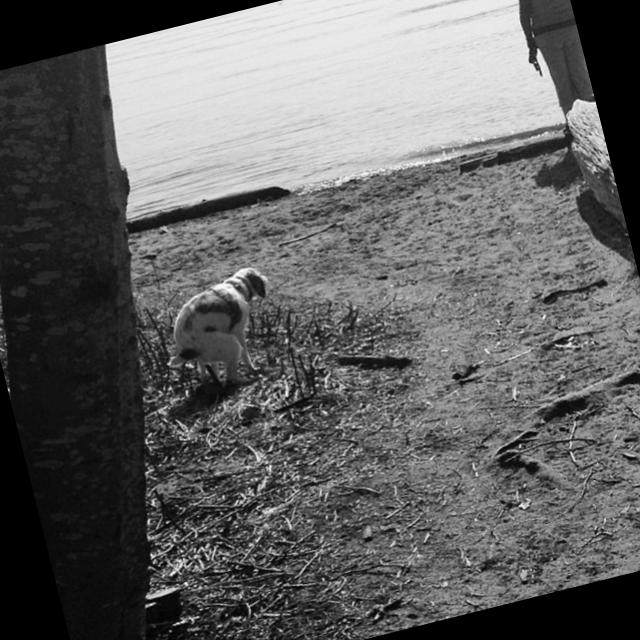squatting: (143, 250, 301, 410)
